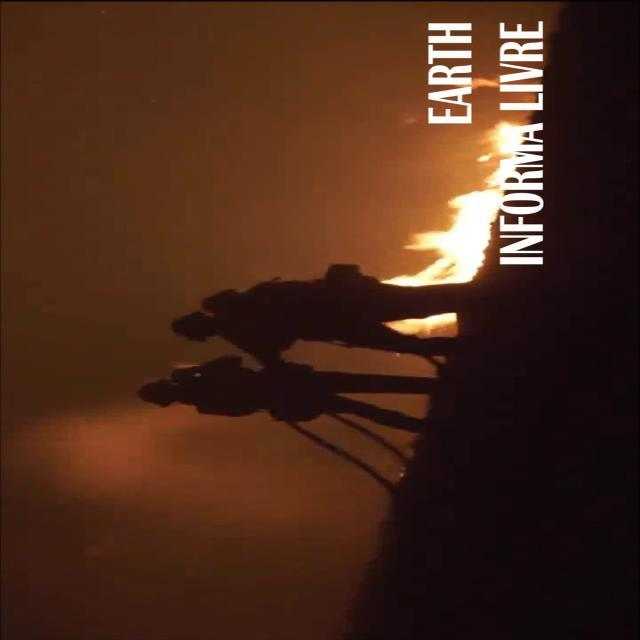Fire: (372, 121, 522, 288), (394, 309, 458, 333), (460, 75, 500, 87)
